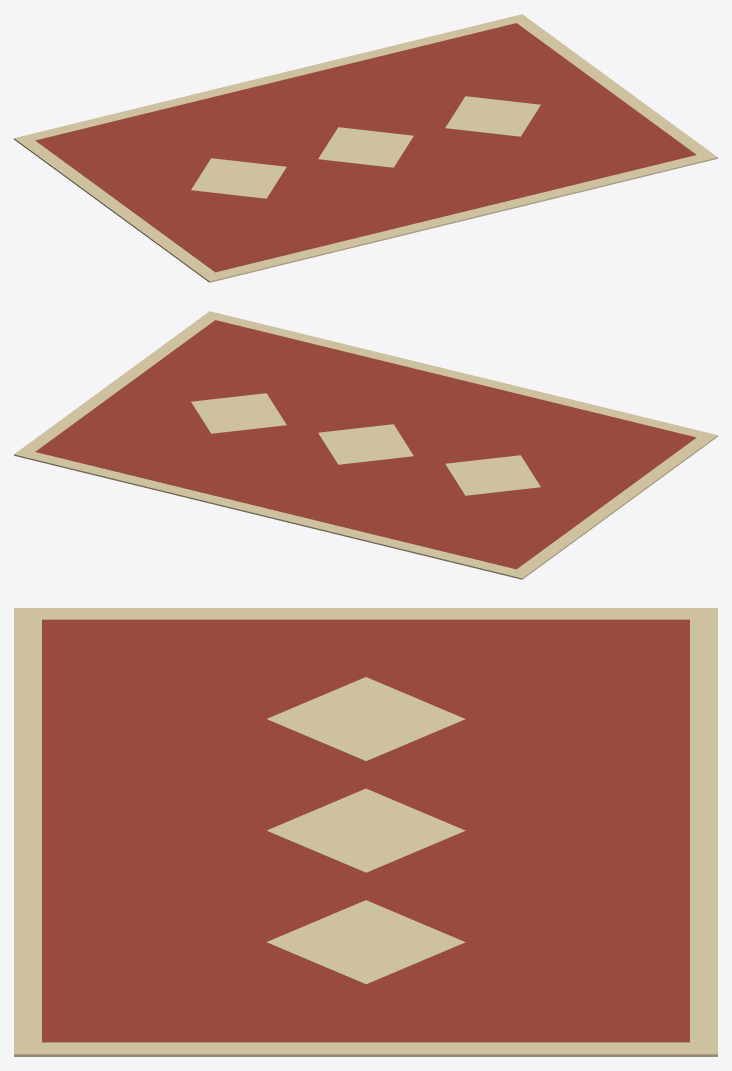
File: rug_diamond.fbx
3 renders of one model, top to bottom at view 1: azimuth 30°, elevation 25°; view 2: azimuth 150°, elevation 25°; view 3: azimuth 270°, elevation 25°, orthographic. The views are drawn at different scales.
Visible parts, largest first — view 1: rug_diamond; view 2: rug_diamond; view 3: rug_diamond.
Boxes of the visible parts, bbox=[...] form: rug_diamond: bbox=[14, 14, 717, 282]; rug_diamond: bbox=[14, 311, 717, 579]; rug_diamond: bbox=[14, 608, 717, 1056].
Size of the model in its own units: 3 by 0.01 by 2.
